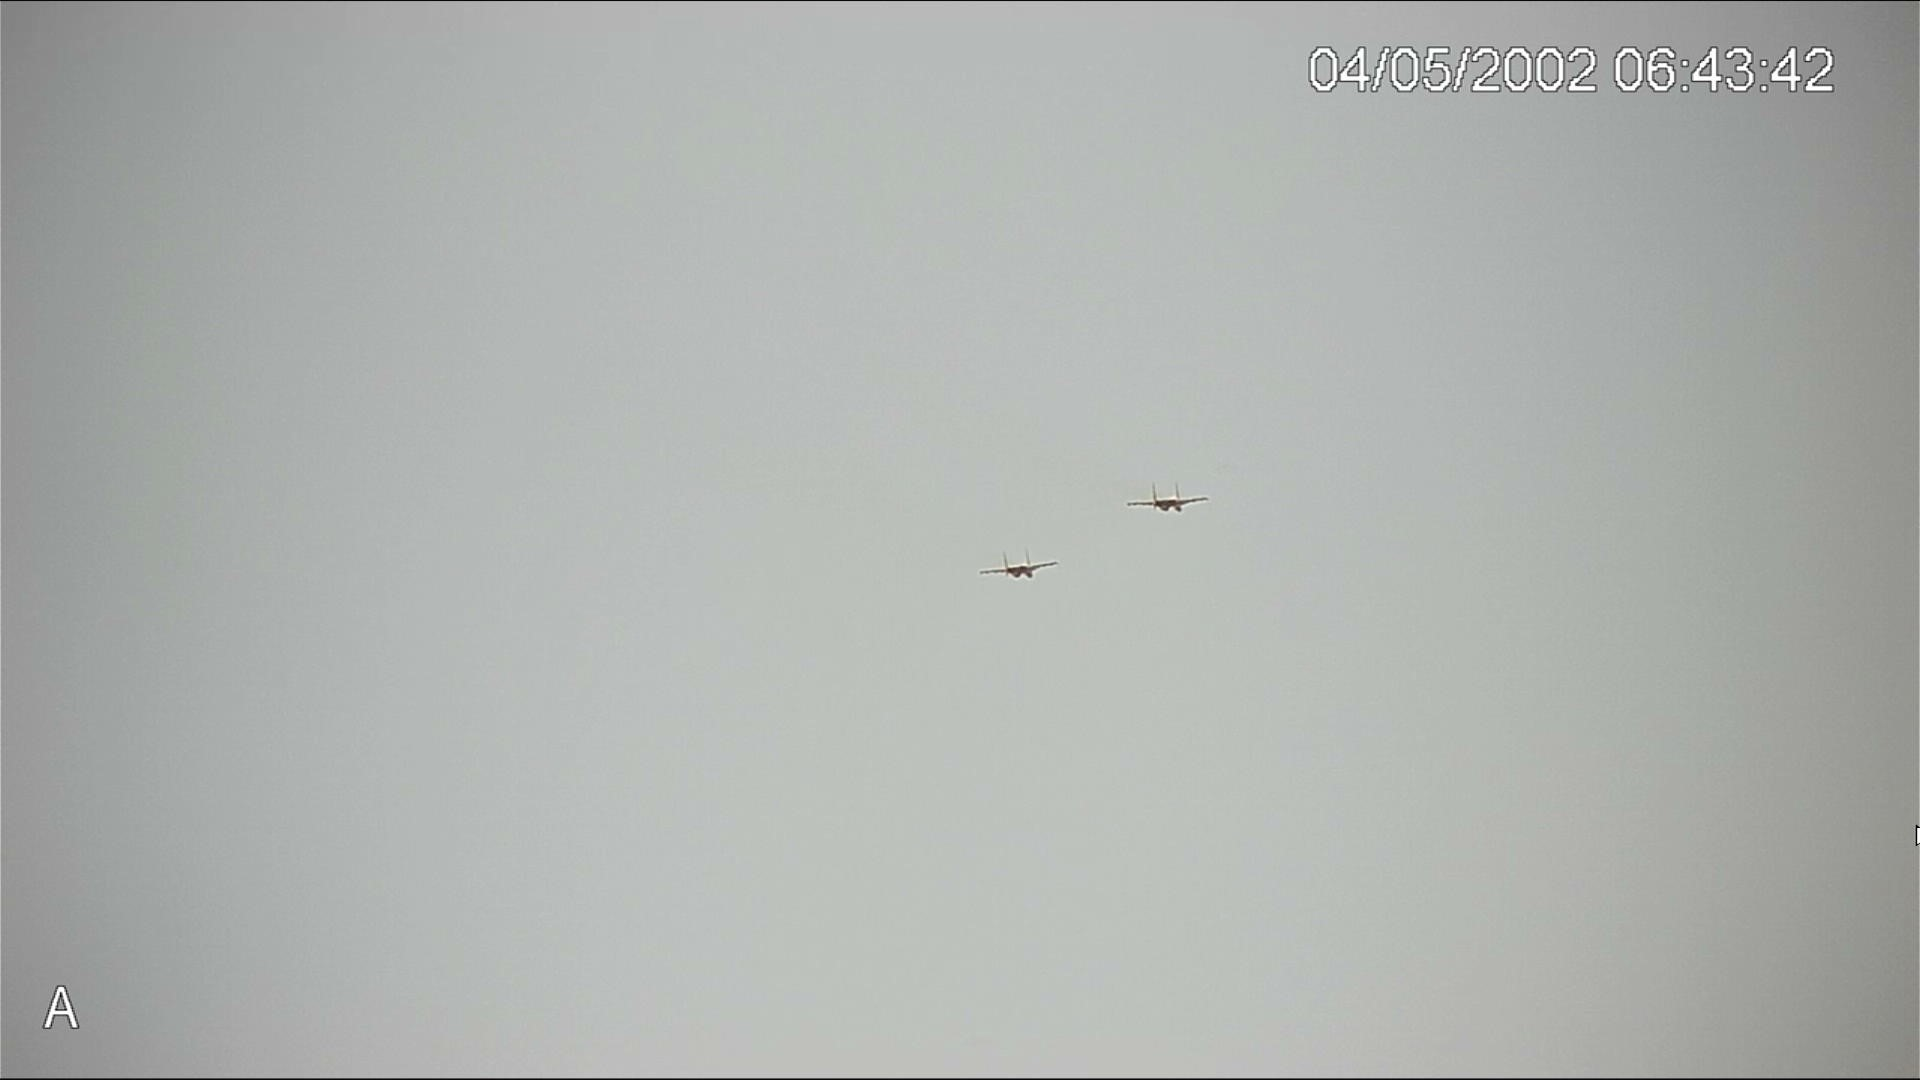SU_30: (1117, 484, 1222, 512), (982, 555, 1056, 583)
